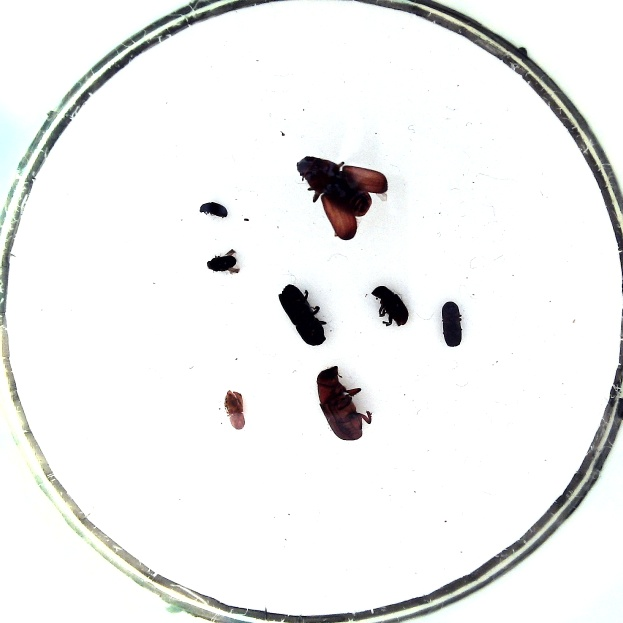acuminatus: (207, 254, 236, 271)
armandi: (371, 285, 409, 326)
boerner: (278, 284, 326, 345)
coleoptera: (224, 389, 245, 429), (199, 202, 228, 218)
leconte: (296, 155, 371, 217), (316, 365, 363, 440)
linnaeus: (442, 301, 462, 347)
